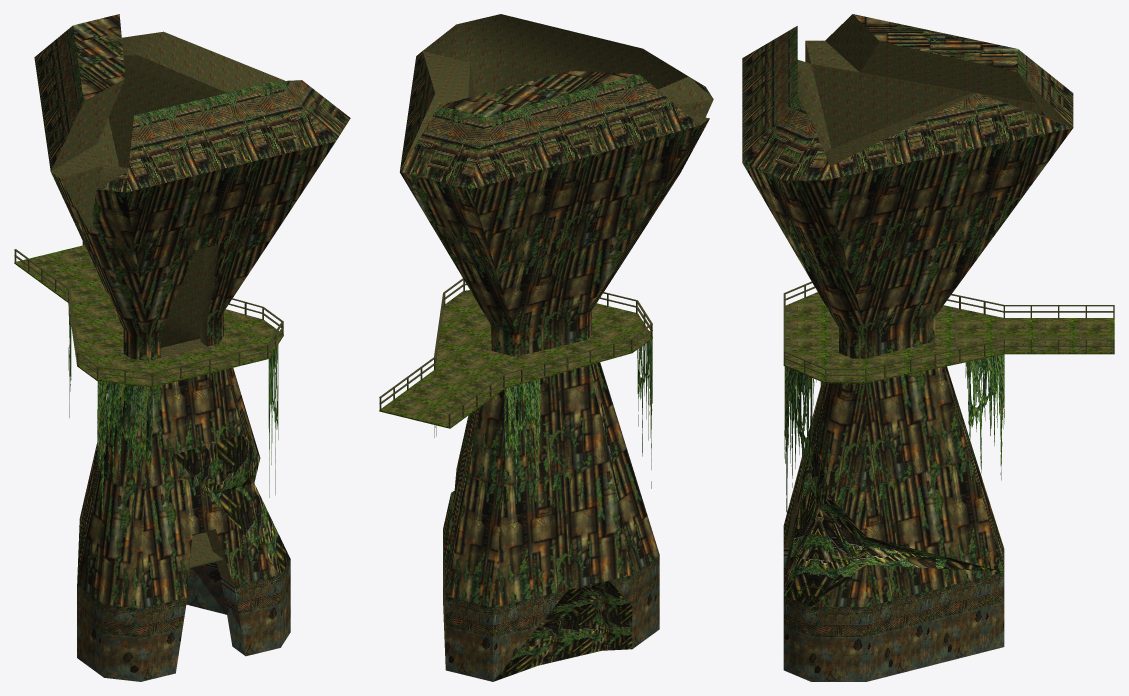
The model's file is mbruin01.FBX.
3 renders of one model, left to right at view 1: azimuth 30°, elevation 25°; view 2: azimuth 150°, elevation 25°; view 3: azimuth 270°, elevation 25°, orthographic. The views are drawn at different scales.
Parts seen in each view (by area): view 1: mbruin01, chamfer001, interior, foundext, walkway, damage, vines__2, interlow, railing, landing; view 2: mbruin01, chamfer001, interior, walkway, foundext, damage, vines__2, railing; view 3: mbruin01, chamfer001, interior, foundext, walkway, damage, vines__2, railing.
Part boxes in pixels (x1=…): mbruin01: x1=51, y1=14, x2=335, y2=608; chamfer001: x1=34, y1=25, x2=350, y2=192; interior: x1=51, y1=31, x2=284, y2=585; foundext: x1=77, y1=559, x2=290, y2=681; walkway: x1=14, y1=245, x2=283, y2=387; damage: x1=173, y1=434, x2=290, y2=574; vines__2: x1=68, y1=308, x2=278, y2=532; interlow: x1=186, y1=534, x2=245, y2=655; railing: x1=14, y1=241, x2=283, y2=385; landing: x1=160, y1=338, x2=223, y2=567; mbruin01: x1=400, y1=70, x2=709, y2=607; chamfer001: x1=400, y1=51, x2=713, y2=189; interior: x1=400, y1=14, x2=713, y2=170; walkway: x1=379, y1=290, x2=652, y2=428; foundext: x1=443, y1=531, x2=659, y2=681; damage: x1=445, y1=491, x2=632, y2=681; vines__2: x1=434, y1=338, x2=652, y2=506; railing: x1=379, y1=278, x2=652, y2=427; mbruin01: x1=742, y1=14, x2=1072, y2=606; chamfer001: x1=742, y1=26, x2=1073, y2=180; interior: x1=784, y1=14, x2=1072, y2=548; foundext: x1=783, y1=572, x2=1004, y2=681; walkway: x1=783, y1=292, x2=1114, y2=383; damage: x1=784, y1=417, x2=1002, y2=606; vines__2: x1=784, y1=354, x2=1004, y2=532; railing: x1=783, y1=281, x2=1114, y2=381.
Size of what is drawn, in the model's own units: 24 by 27 by 46.1.
